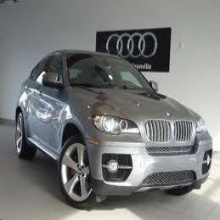no damage: (14, 49, 214, 209)
